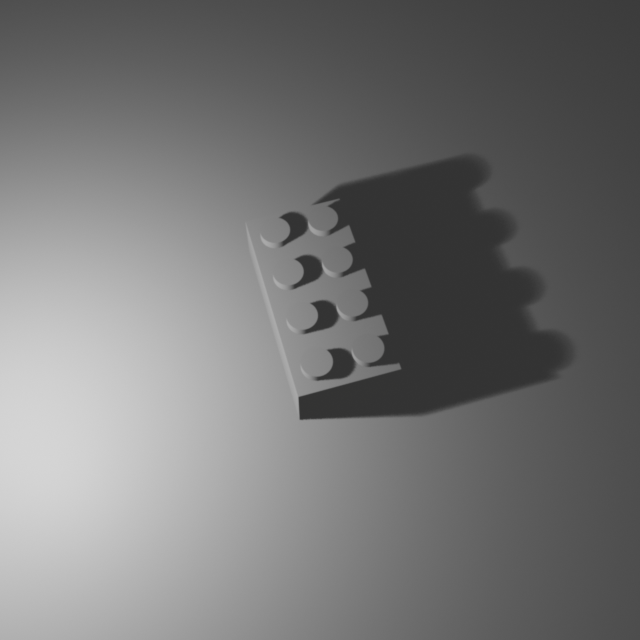lego_2x4: (245, 193, 402, 420)
